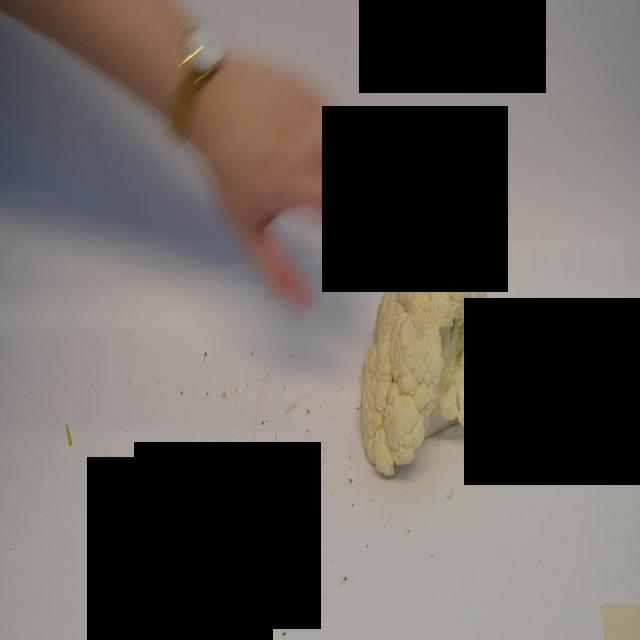cauliflower: (358, 237, 488, 476)
